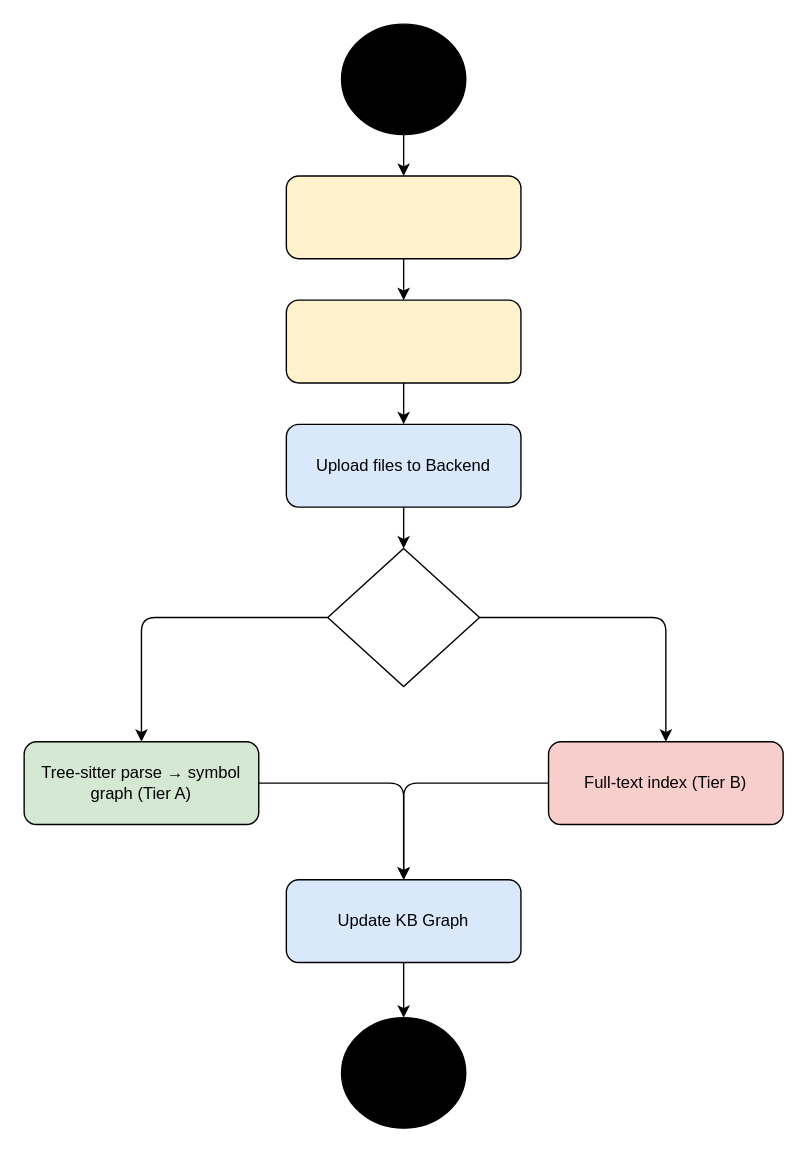
Image size: 807x1152. Some labels were removed from this diagram. The shapes that lost their labels are listed below. From the top down, each one's box as (x1, y1, x2, y2) in pixels, then its label:
(285, 175, 521, 259): Developer triggers index
(285, 299, 521, 383): Extension findFiles with unified extensions
(326, 547, 480, 687): Extension supported?
